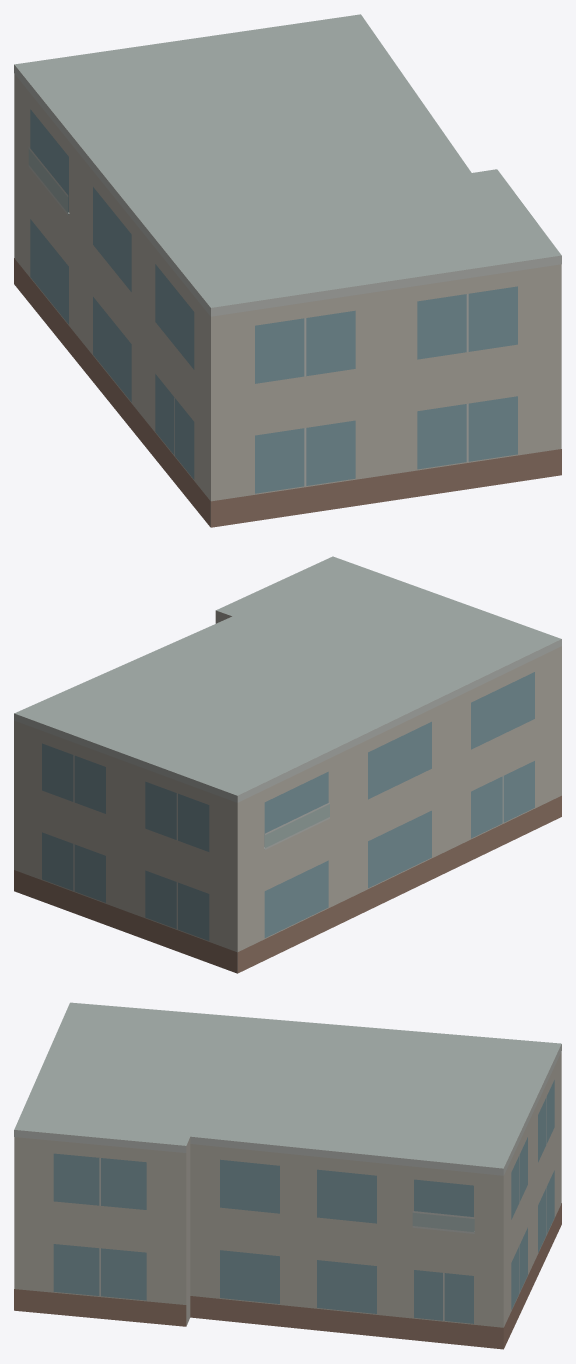
Rendered from survey-upis-32669103.glb.
The picture shows the model from 3 angles, top to bottom: view 1: azimuth 30°, elevation 25°; view 2: azimuth 150°, elevation 25°; view 3: azimuth 270°, elevation 25°; orthographic projection. The views are drawn at different scales.
Visible parts, largest first — view 1: survey-upis-32669103.tmp; view 2: survey-upis-32669103.tmp; view 3: survey-upis-32669103.tmp.
Boxes of the visible parts, x1,y1,x2,y2 form: survey-upis-32669103.tmp: [14, 14, 561, 527]; survey-upis-32669103.tmp: [14, 556, 561, 973]; survey-upis-32669103.tmp: [14, 1002, 561, 1349].
Size of the model in its own units: 12.03 by 6.1 by 16.76.
